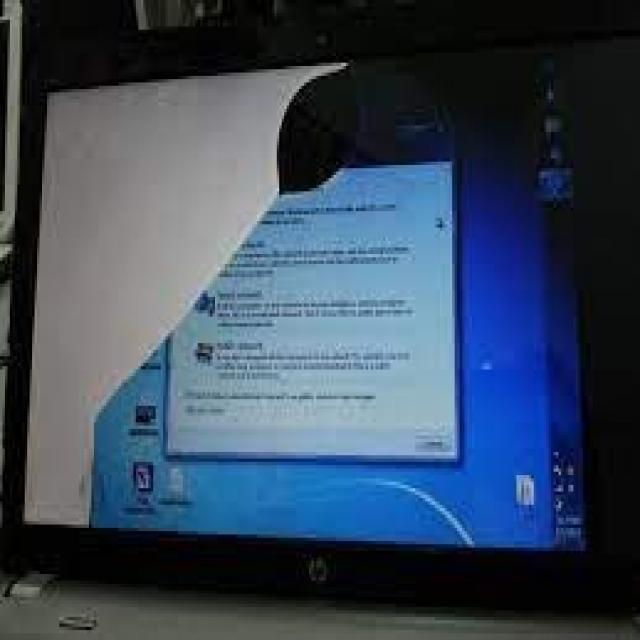Screen cracks: (22, 59, 474, 518)
